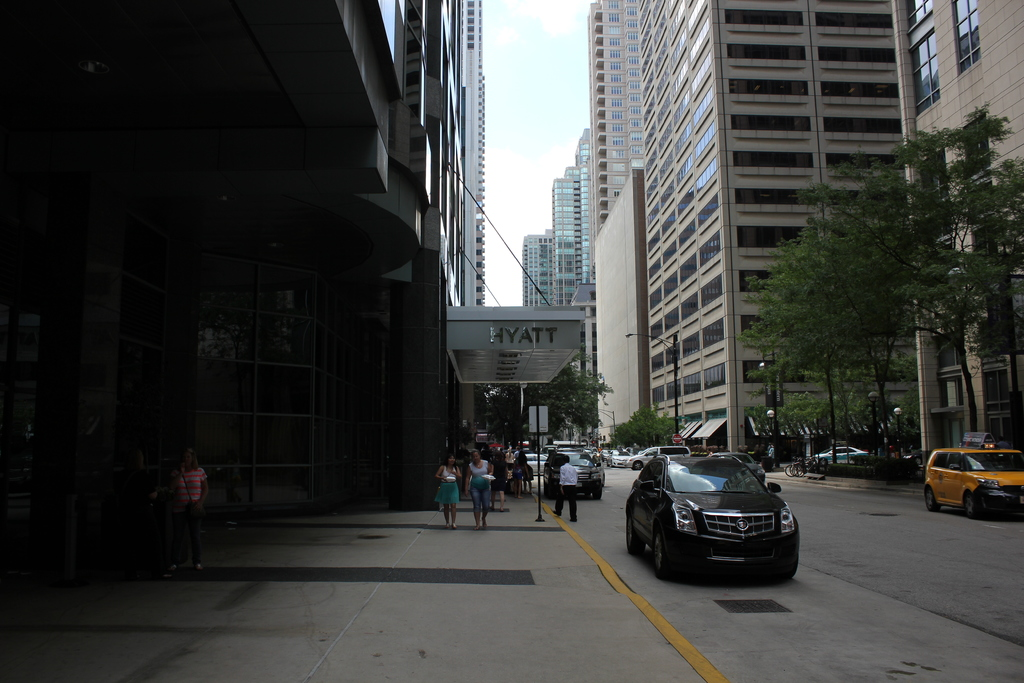Car: (634, 447, 813, 582), (919, 440, 1023, 525), (541, 447, 606, 509), (810, 445, 863, 472), (606, 447, 631, 465)
